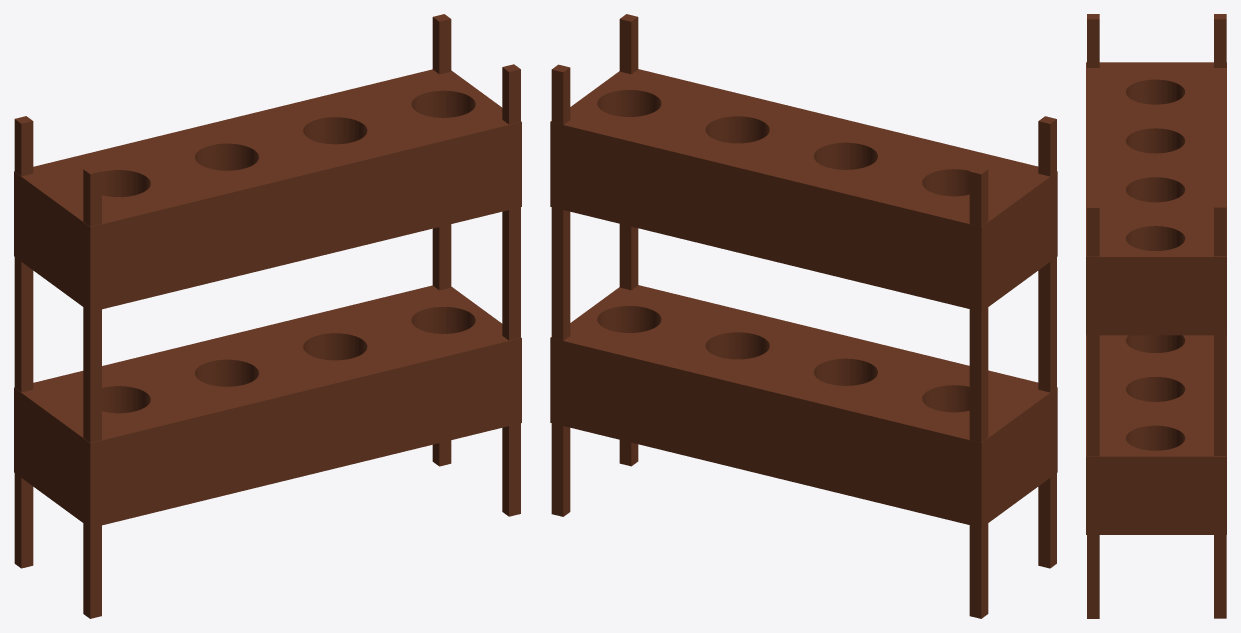
Rendered from TesTubeHolder.glb.
3 views of the same model, side by side, from view 1: azimuth 30°, elevation 25°; view 2: azimuth 150°, elevation 25°; view 3: azimuth 270°, elevation 25° (orthographic). The views are drawn at different scales.
Parts seen in each view (by area): view 1: Test tube holder; view 2: Test tube holder; view 3: Test tube holder.
Part boxes in pixels (x1,y1,x2,y2): Test tube holder: [14, 14, 521, 618]; Test tube holder: [550, 14, 1057, 618]; Test tube holder: [1086, 14, 1226, 618].
Bounding box in the file's own units: 0.2905 × 0.2861 × 0.0888.
